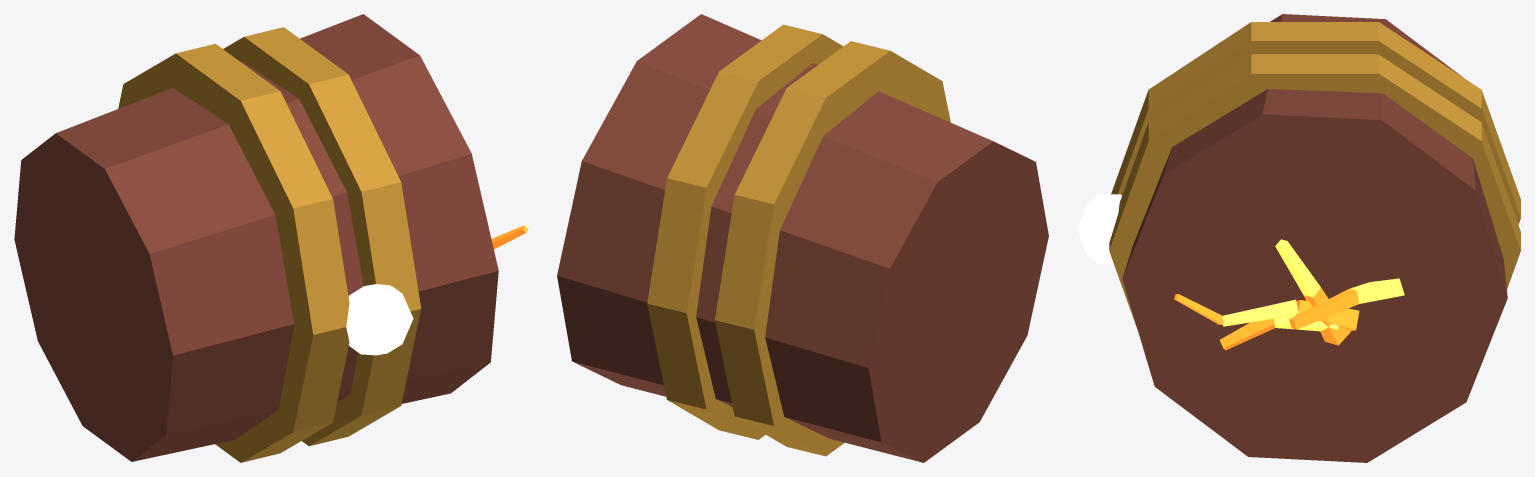
The model's file is ember_queen_arm_r.glb.
The picture shows the model from 3 angles, left to right: view 1: azimuth 30°, elevation 25°; view 2: azimuth 150°, elevation 25°; view 3: azimuth 270°, elevation 25°; orthographic projection. The views are drawn at different scales.
Visible parts, largest first — view 1: ember_queen_arm_r; view 2: ember_queen_arm_r; view 3: ember_queen_arm_r.
Part boxes in pixels (box(x1,y1,x2,y2)): ember_queen_arm_r: box(14, 14, 528, 462); ember_queen_arm_r: box(557, 14, 1048, 462); ember_queen_arm_r: box(1077, 14, 1520, 462).
Size of the model in its own units: 0.3332 by 0.3043 by 0.345.
